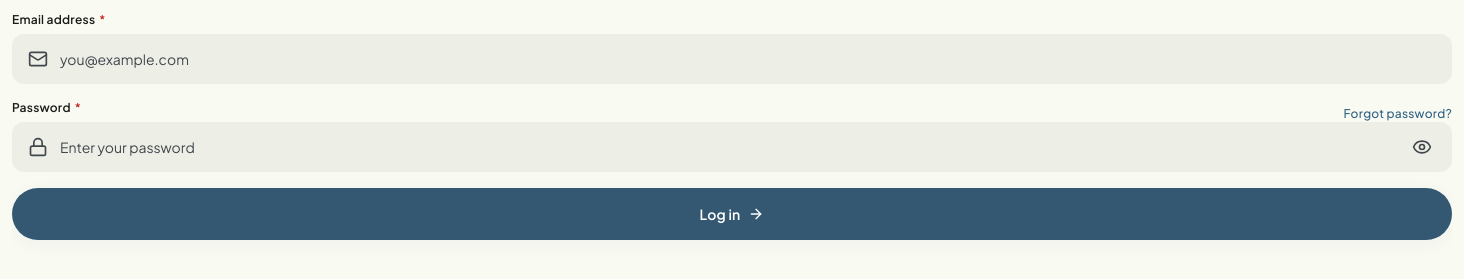
Test: LoginForm validation › shows the email error on blur, before any submit
Type "nope" into the field labelled "Email address".
click(732, 59); type("nope")  # box [12,34,1452,84]
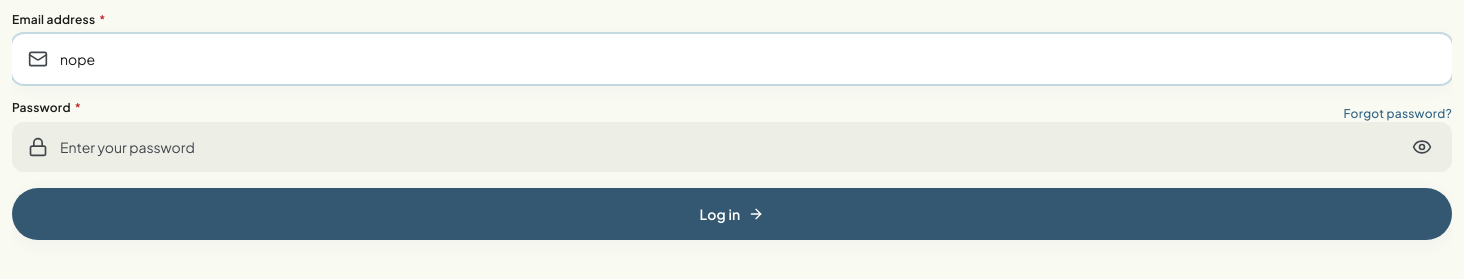
Expected: the text "Enter a valid email address." is not shown
Press Tab
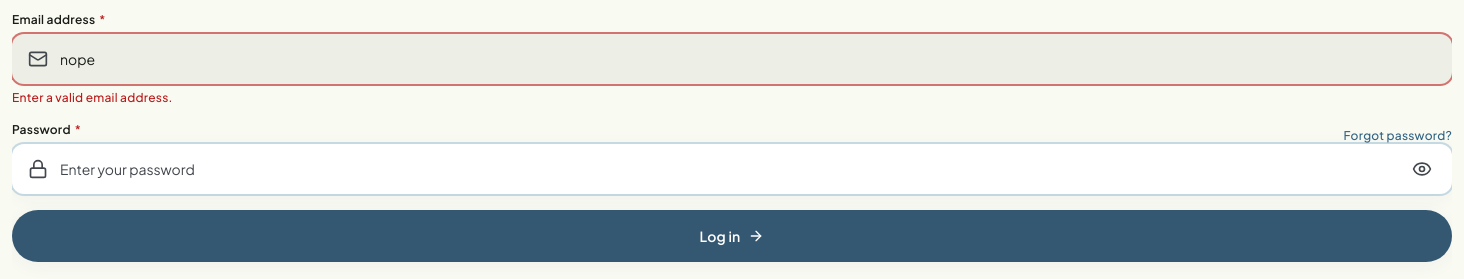
Expected: the text "Enter a valid email address." is shown, [12,90,173,105]
